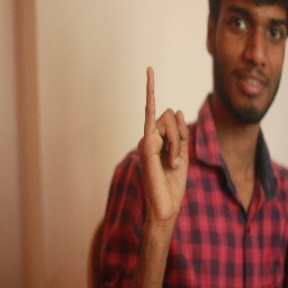I: (134, 64, 193, 215)
